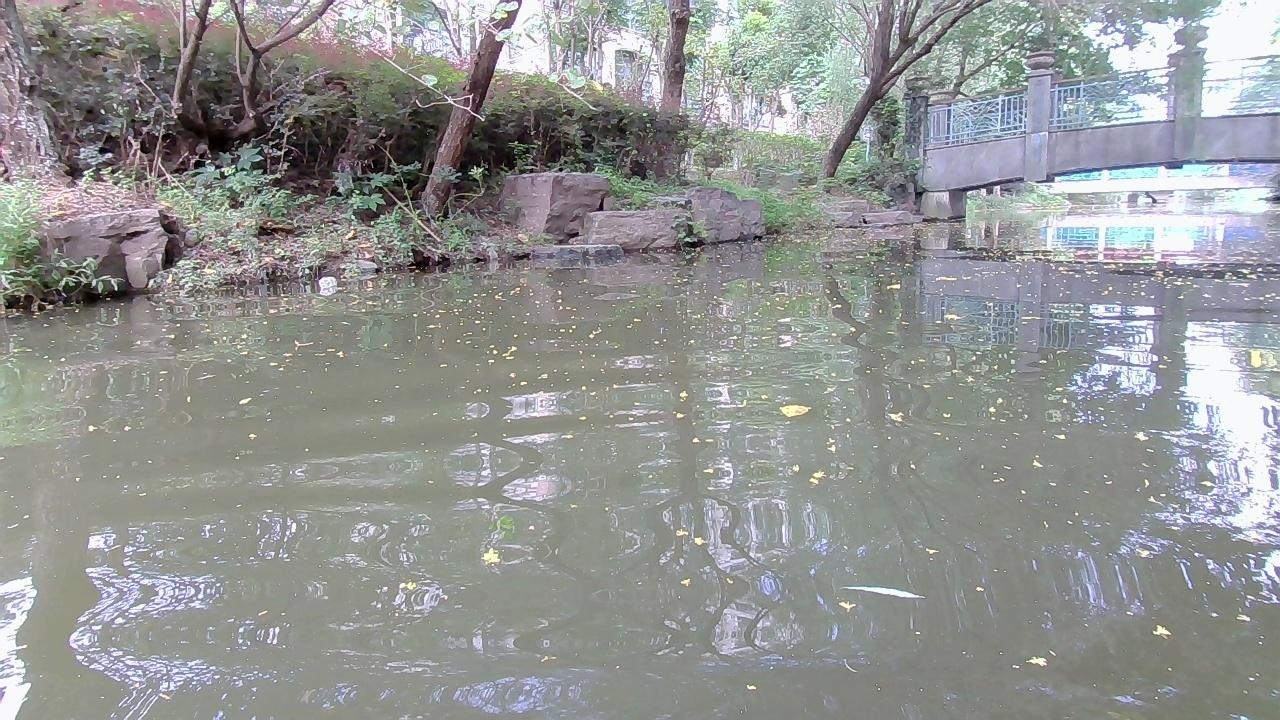bottle: (315, 275, 340, 291)
